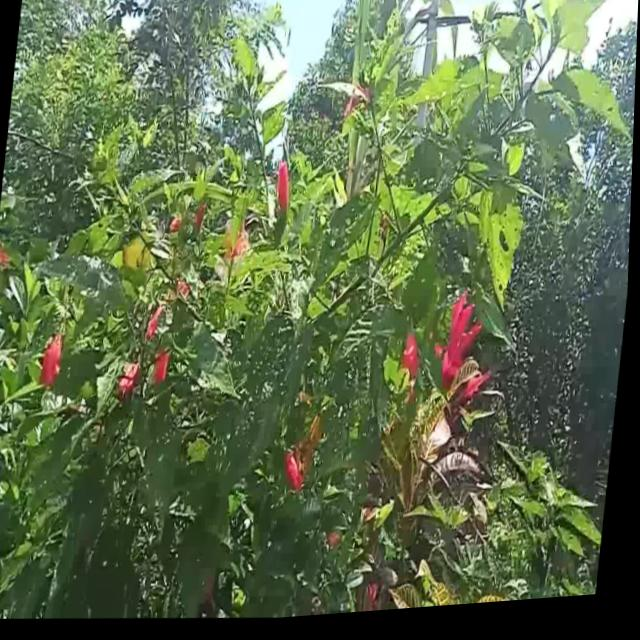Flower: (270, 158, 303, 230), (398, 324, 428, 397), (280, 444, 313, 498), (42, 331, 69, 391), (153, 348, 174, 392)
